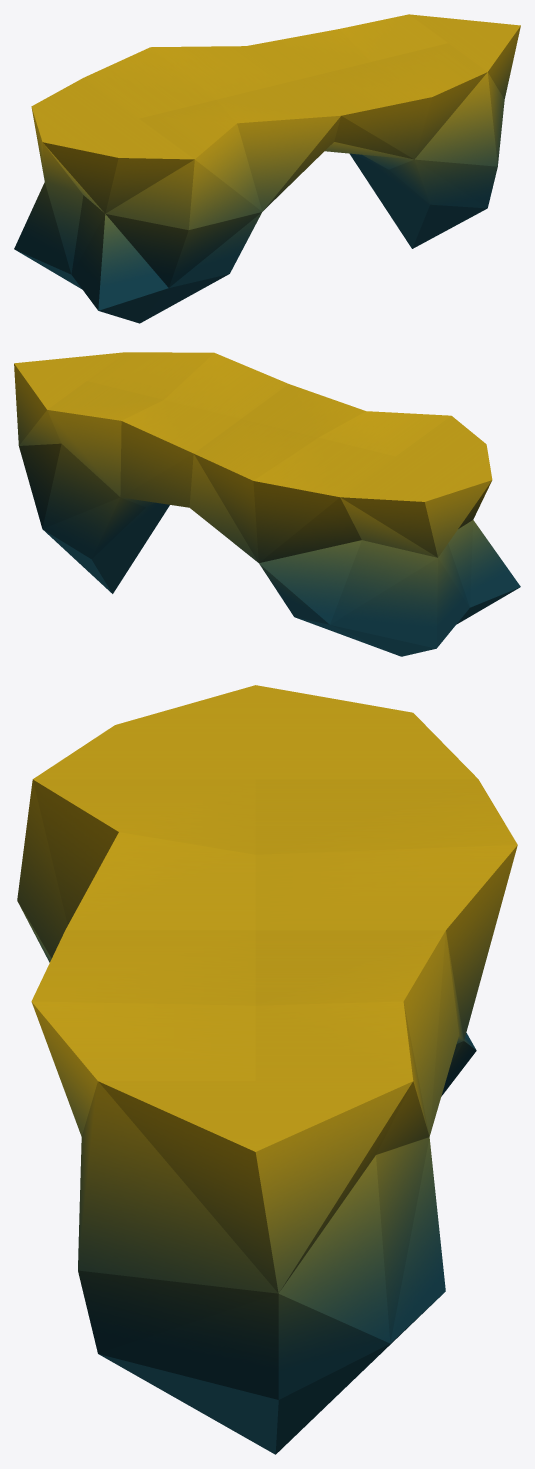
Rendered from MOD_PlatformV3_midden.fbx.
3 renders of one model, top to bottom at view 1: azimuth 30°, elevation 25°; view 2: azimuth 150°, elevation 25°; view 3: azimuth 270°, elevation 25°, orthographic. The views are drawn at different scales.
Visible parts, largest first — view 1: MOD_PlatformsFloating_Midden; view 2: MOD_PlatformsFloating_Midden; view 3: MOD_PlatformsFloating_Midden.
Boxes of the visible parts, x1,y1,x2,y2 form: MOD_PlatformsFloating_Midden: (14,14,520,323); MOD_PlatformsFloating_Midden: (14,352,520,656); MOD_PlatformsFloating_Midden: (17,685,517,1454).
Bounding box in the file's own units: 4.96 × 2.05 × 2.25.
Materials: 1 (1 with a texture image).
